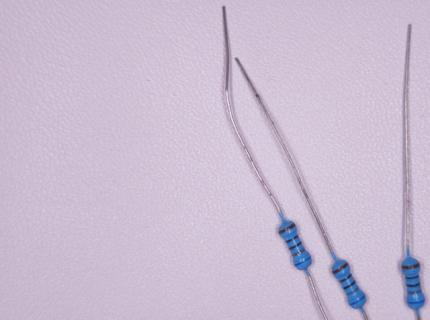Black band: (340, 273, 352, 283), (343, 280, 355, 290), (285, 235, 298, 244), (289, 241, 301, 250), (406, 282, 420, 287), (405, 275, 419, 279)
Blue band: (349, 294, 366, 306), (294, 256, 311, 267), (407, 299, 425, 304)
Brown band: (332, 262, 349, 275), (279, 223, 296, 234), (402, 262, 420, 269)
Grey band: (292, 248, 306, 257), (347, 287, 360, 296), (407, 290, 422, 295)
